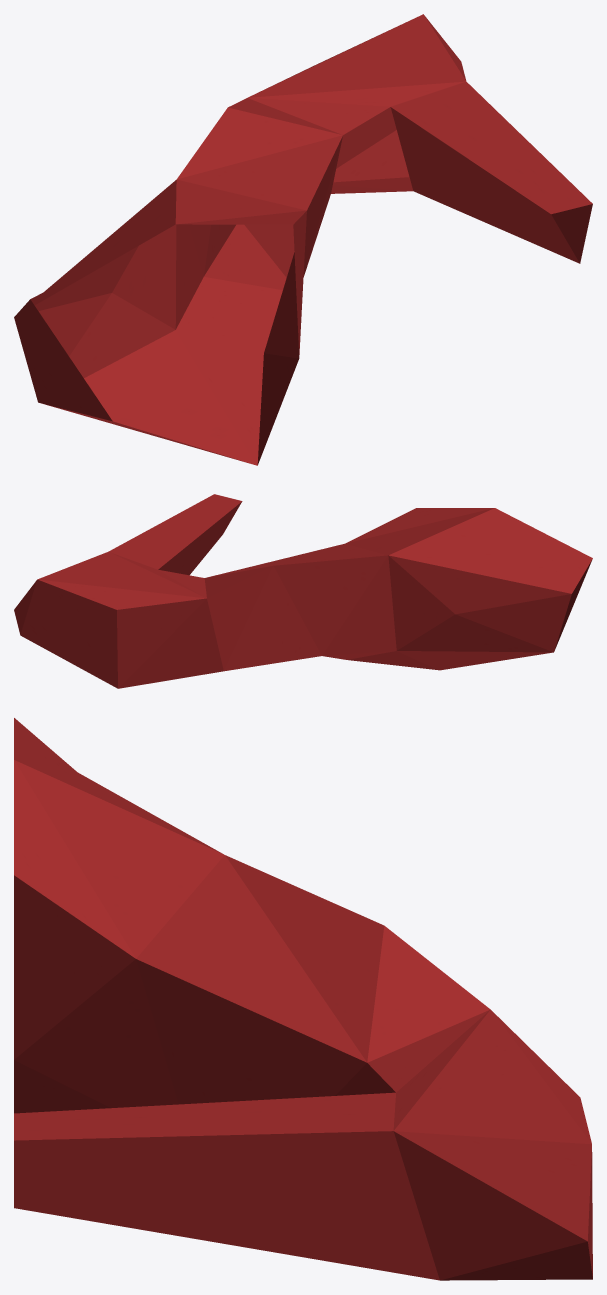
File: pink_symbol_hill.FBX
The picture shows the model from 3 angles, top to bottom: view 1: azimuth 30°, elevation 25°; view 2: azimuth 150°, elevation 25°; view 3: azimuth 270°, elevation 25°; orthographic projection. The views are drawn at different scales.
Visible parts, largest first — view 1: winter_hill_ice; view 2: winter_hill_ice; view 3: winter_hill_ice.
Boxes of the visible parts, left/top/right/bottom form: winter_hill_ice: left=14, top=14, right=592, bottom=465; winter_hill_ice: left=14, top=494, right=592, bottom=688; winter_hill_ice: left=14, top=718, right=592, bottom=1280.
Bounding box in the file's own units: 482 × 186 × 280.
